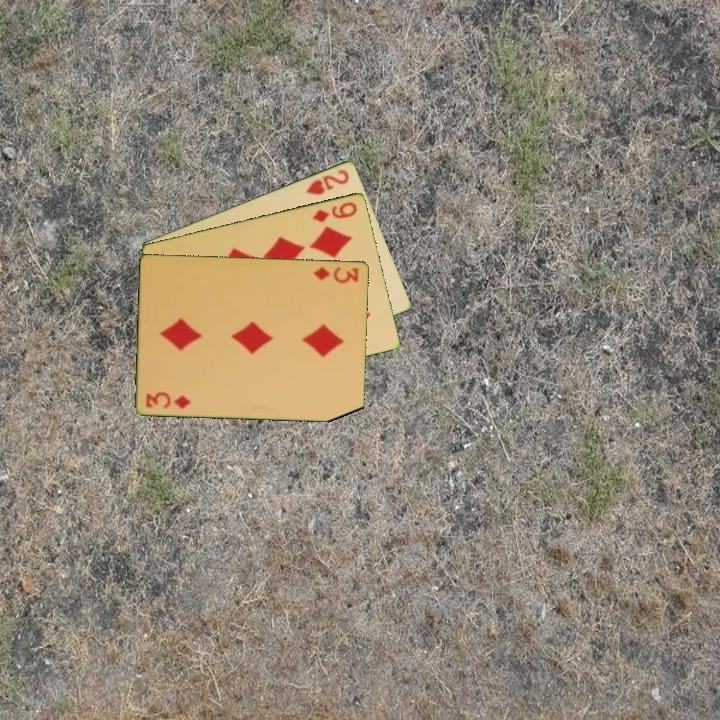2h: (302, 166, 352, 198)
3d: (310, 263, 362, 286), (143, 389, 194, 411)
9d: (309, 198, 360, 225)
